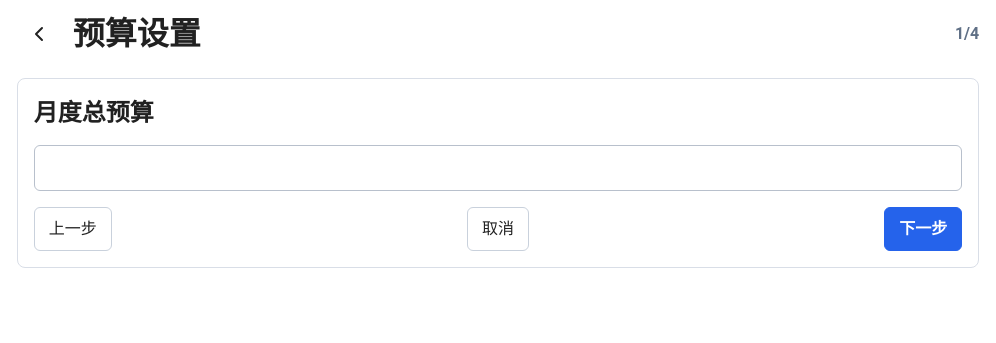
Test: BudgetWizard › uses numeric input for each budget amount step
Type "10000" into the number field at (498, 168), box [34,145,962,191]
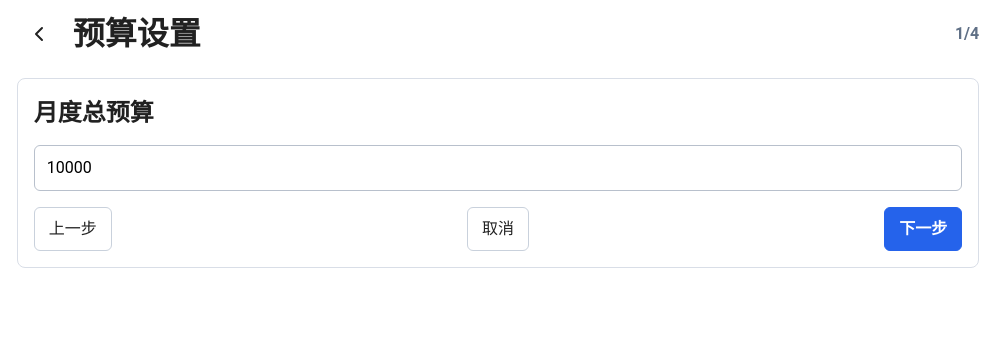
Submit the form, box [17,78,979,268]
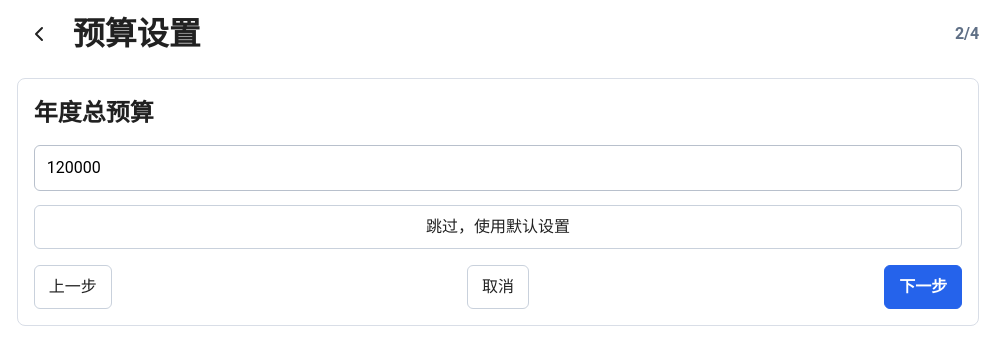
Expected: the number field holds "120000", [34,145,962,191]
